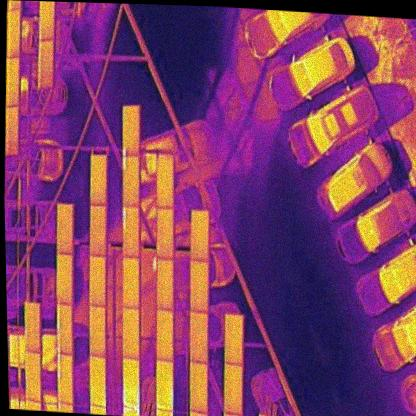Diode: (119, 205, 141, 259), (155, 359, 176, 412), (121, 357, 141, 411), (122, 105, 142, 158), (121, 155, 141, 208), (55, 354, 74, 406), (55, 305, 73, 355)
Normal: (222, 363, 245, 414), (154, 157, 176, 210), (189, 260, 211, 313), (188, 312, 210, 365), (222, 314, 245, 364), (189, 210, 211, 262), (188, 363, 210, 414), (88, 154, 109, 206), (155, 208, 175, 262), (87, 205, 107, 258), (55, 203, 75, 256), (155, 259, 175, 311), (121, 257, 141, 309), (154, 309, 173, 362), (88, 255, 107, 307), (120, 307, 139, 359), (23, 350, 42, 402), (55, 254, 74, 305), (88, 357, 107, 408), (22, 302, 41, 352), (88, 306, 106, 357), (5, 8, 22, 59), (5, 56, 21, 108), (4, 105, 20, 155)
